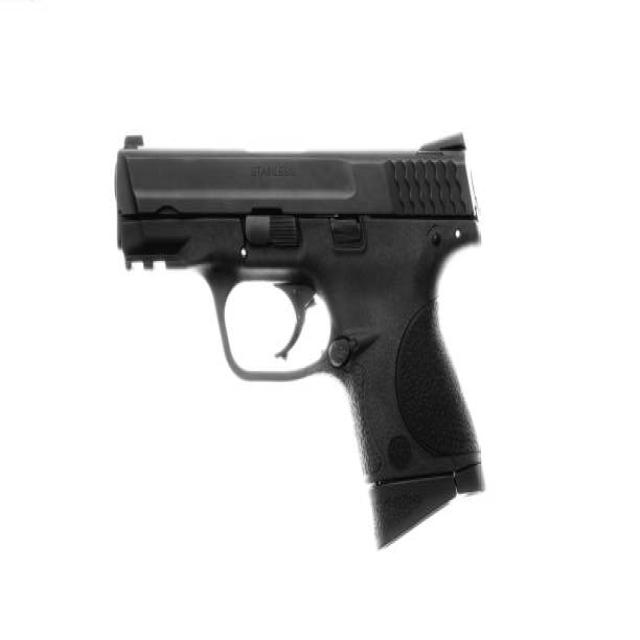pistol: (111, 127, 496, 555)
